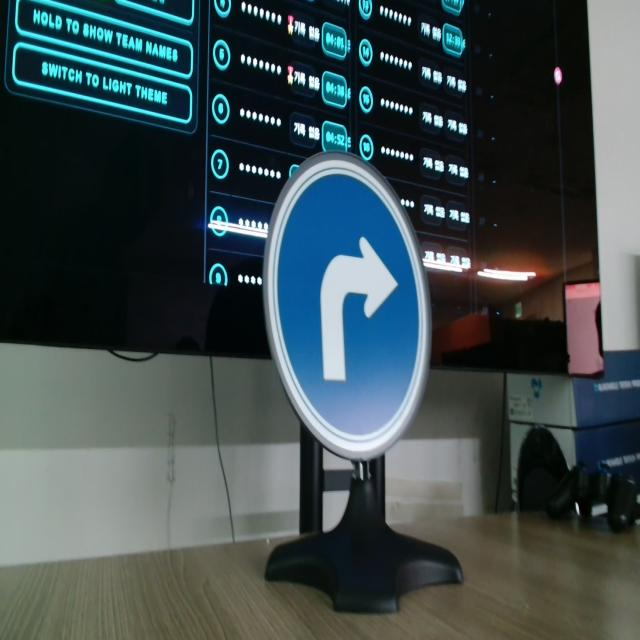right_dierection: (256, 143, 434, 465)
